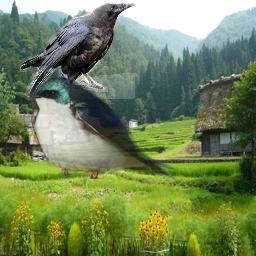Crow: (20, 2, 135, 99)
Swallow: (25, 75, 178, 179)
